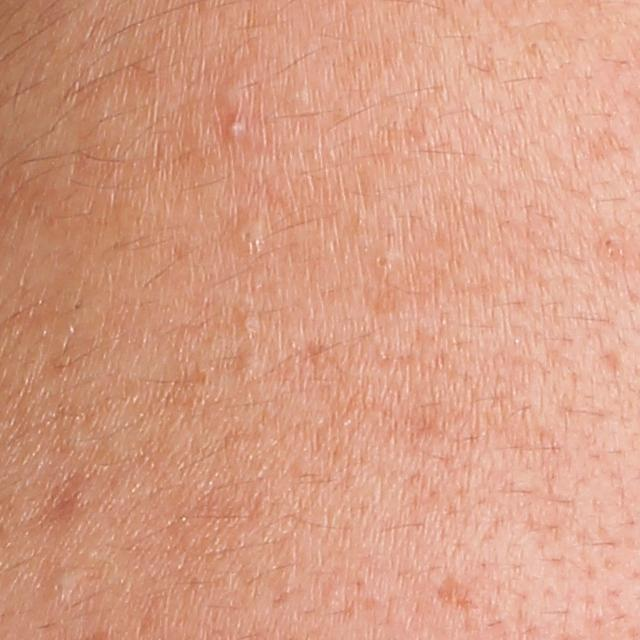atrophic_scar: (33, 471, 91, 524), (431, 572, 477, 622)
comedo: (220, 77, 253, 110), (232, 221, 266, 251), (235, 349, 262, 384), (236, 306, 261, 331), (368, 249, 395, 272), (596, 230, 620, 254)
